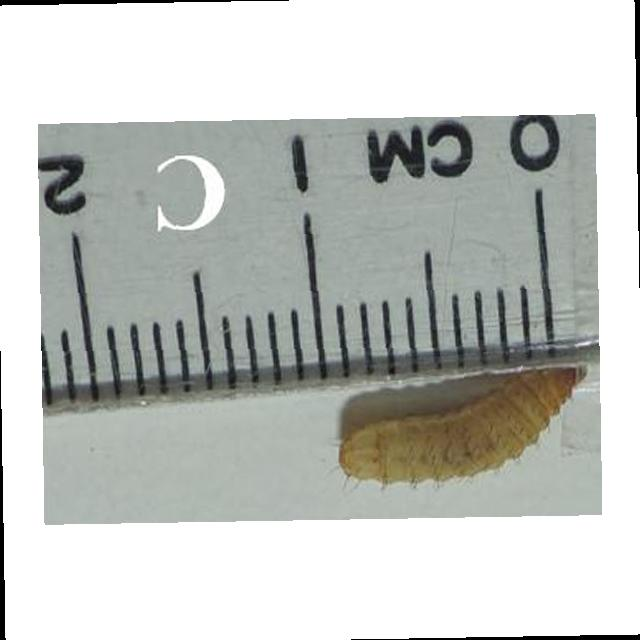Maggot: (334, 366, 590, 489)
